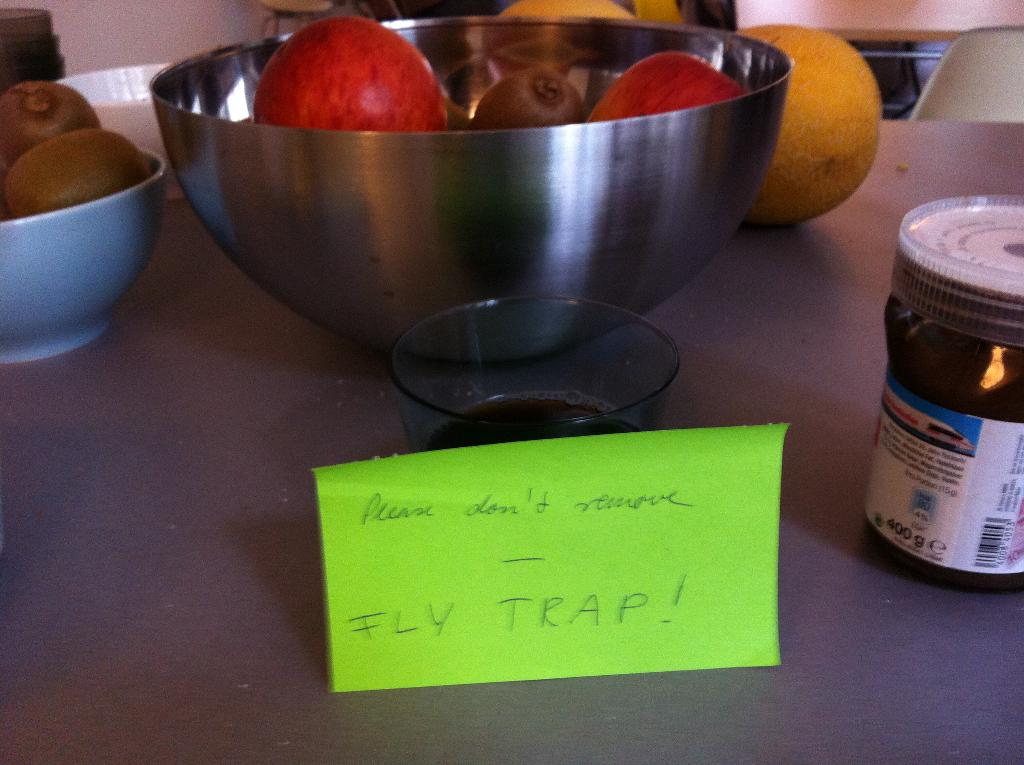Apple: (234, 15, 437, 129), (584, 53, 750, 121)
